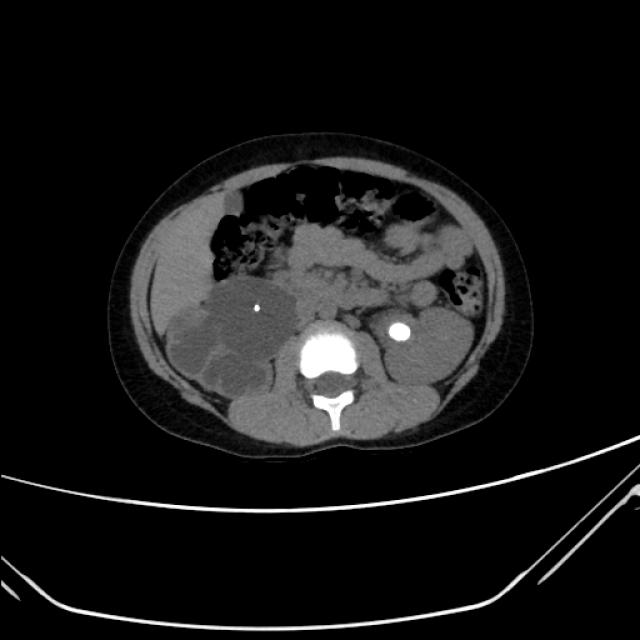kidney: (374, 303, 476, 387), (214, 278, 298, 360)
stone: (386, 317, 411, 341), (252, 301, 265, 314)
